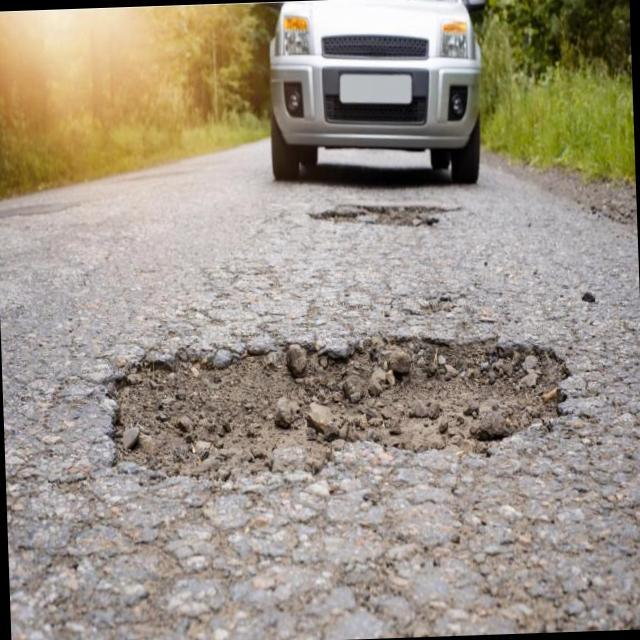Pothole: (109, 332, 566, 479), (316, 202, 457, 228)
